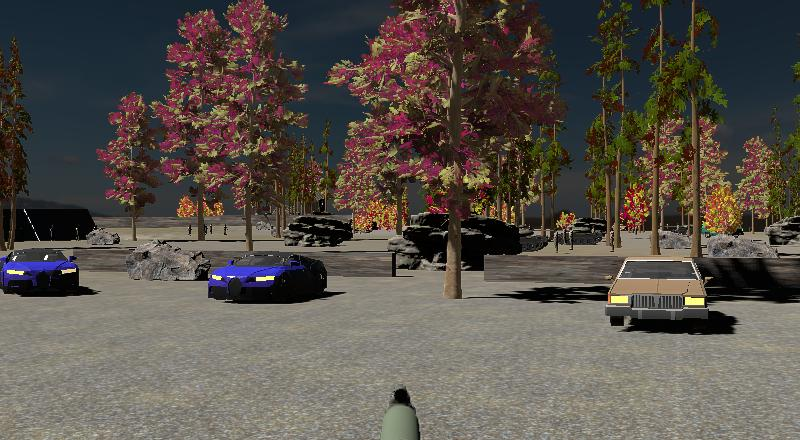Tank: (503, 225, 554, 252), (557, 223, 605, 246)
car: (604, 256, 710, 329), (207, 249, 330, 304), (0, 245, 82, 296)
